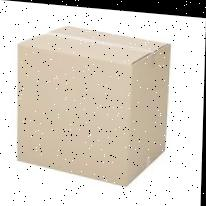cube: (14, 21, 171, 184)
